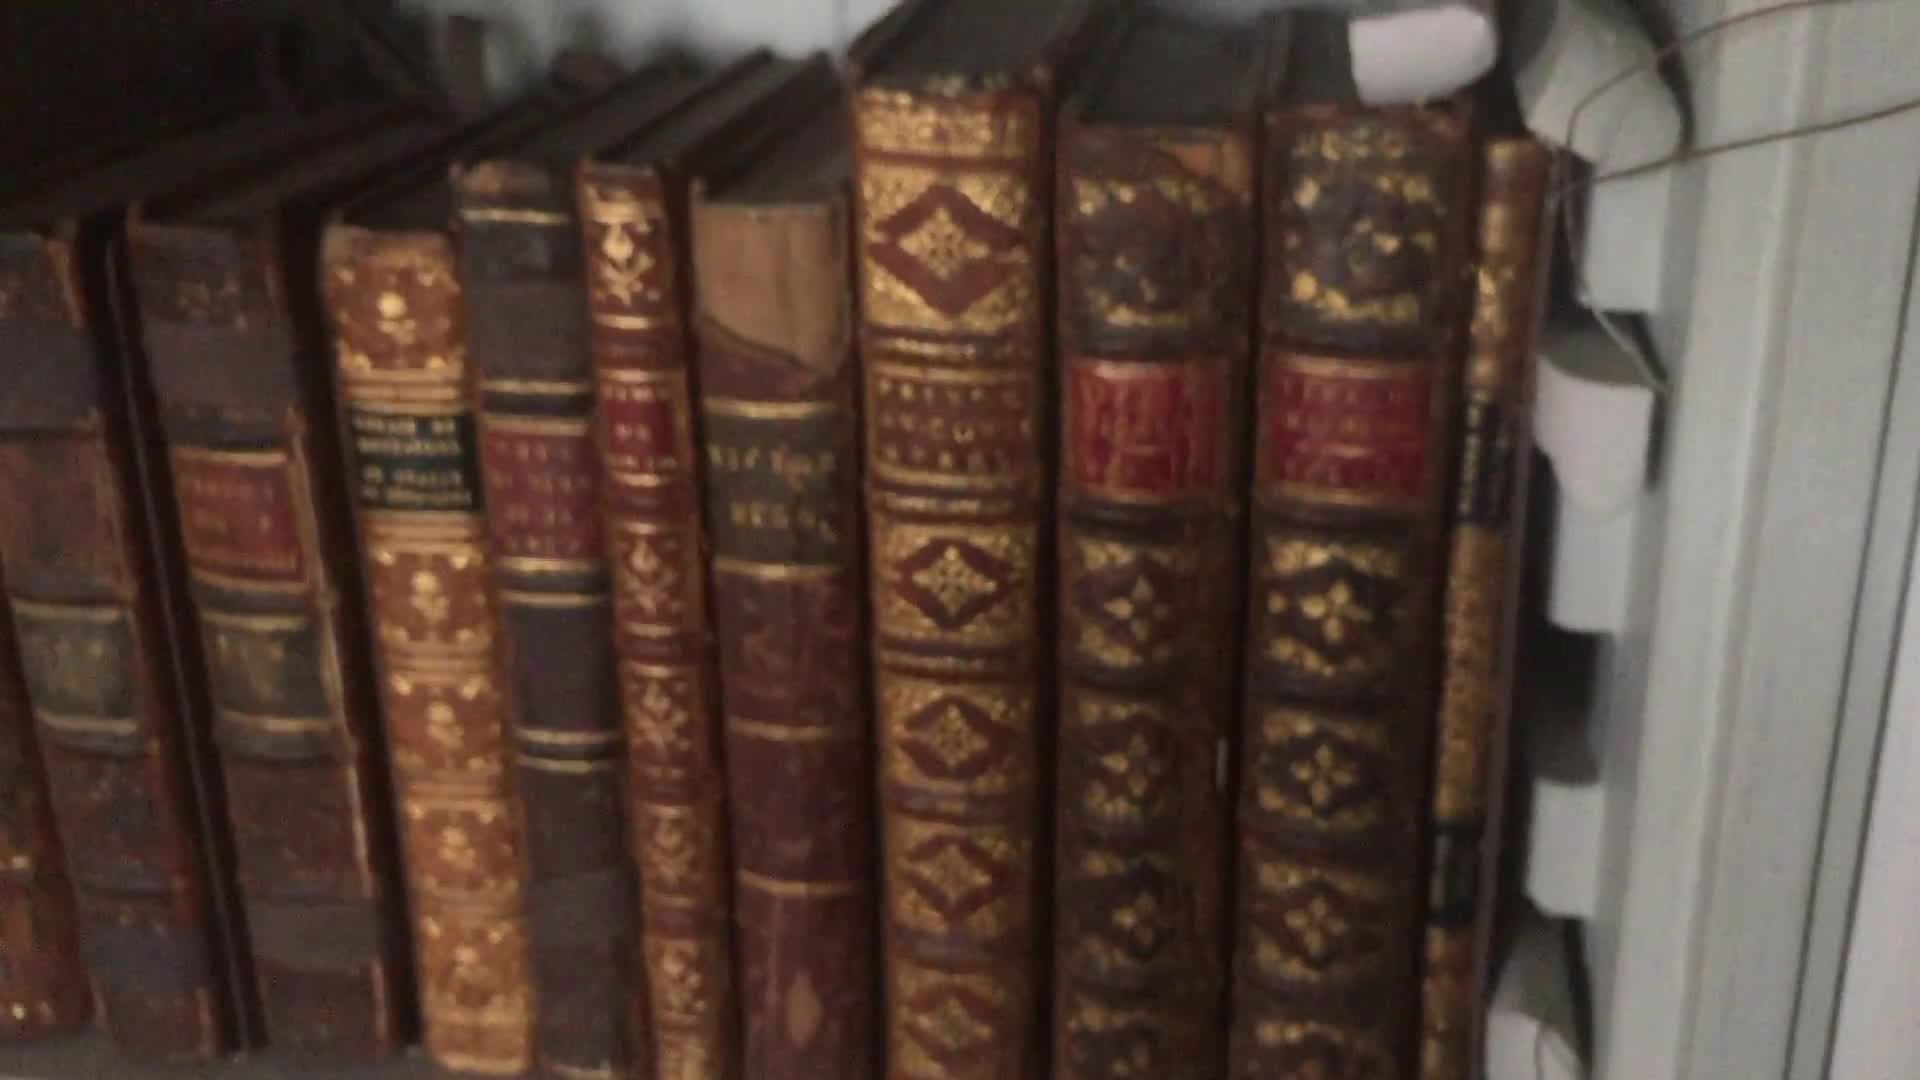Aa6-39_40: (15, 179, 388, 1080)
Aa6-41: (307, 202, 525, 1080)
Aa6-42: (446, 152, 636, 1058)
Aa6-43: (560, 135, 724, 1080)
Aa6-44: (690, 183, 898, 1080)
Aa6-45: (836, 66, 1044, 1080)
Aa6-46-47: (1051, 123, 1447, 1080)
Aa6-48: (1416, 138, 1524, 1080)
